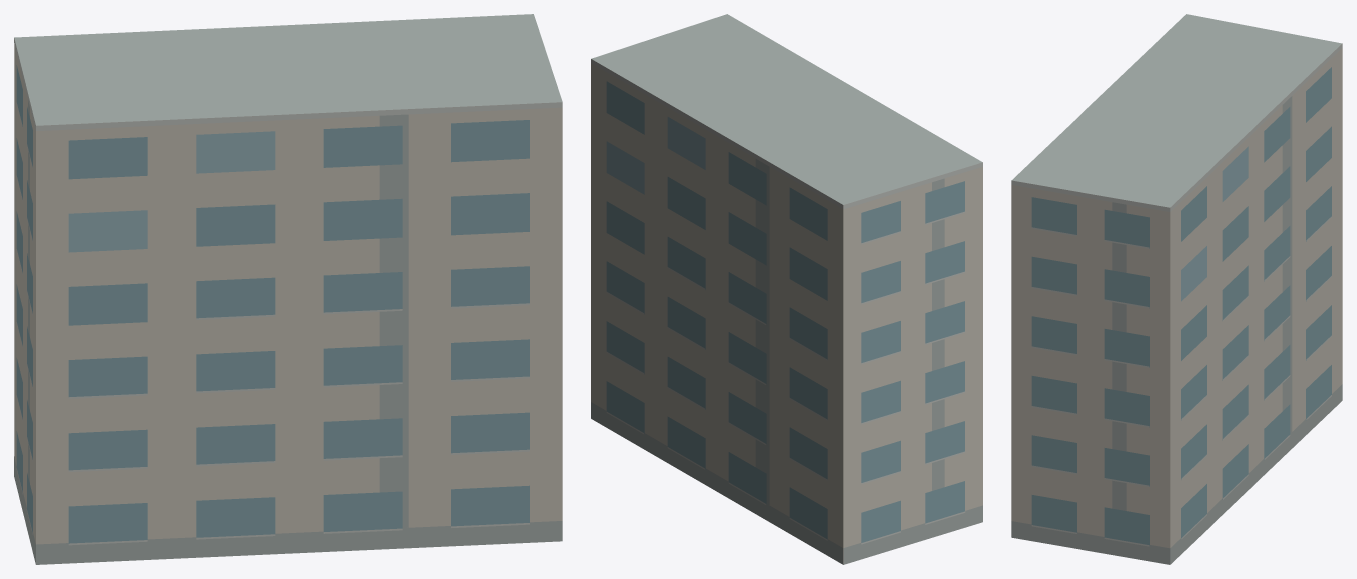
Rendered from survey-upis-32875471.glb.
The picture shows the model from 3 angles, left to right: view 1: azimuth 30°, elevation 25°; view 2: azimuth 150°, elevation 25°; view 3: azimuth 270°, elevation 25°; orthographic projection. The views are drawn at different scales.
Parts seen in each view (by area): view 1: survey-upis-32875471.tmp; view 2: survey-upis-32875471.tmp; view 3: survey-upis-32875471.tmp.
Boxes of the visible parts, left/top/right/bottom form: survey-upis-32875471.tmp: left=14, top=14, right=562, bottom=564; survey-upis-32875471.tmp: left=591, top=14, right=982, bottom=564; survey-upis-32875471.tmp: left=1011, top=14, right=1342, bottom=564.
Bounding box in the file's own units: 23.15 × 19.9 × 16.72.
